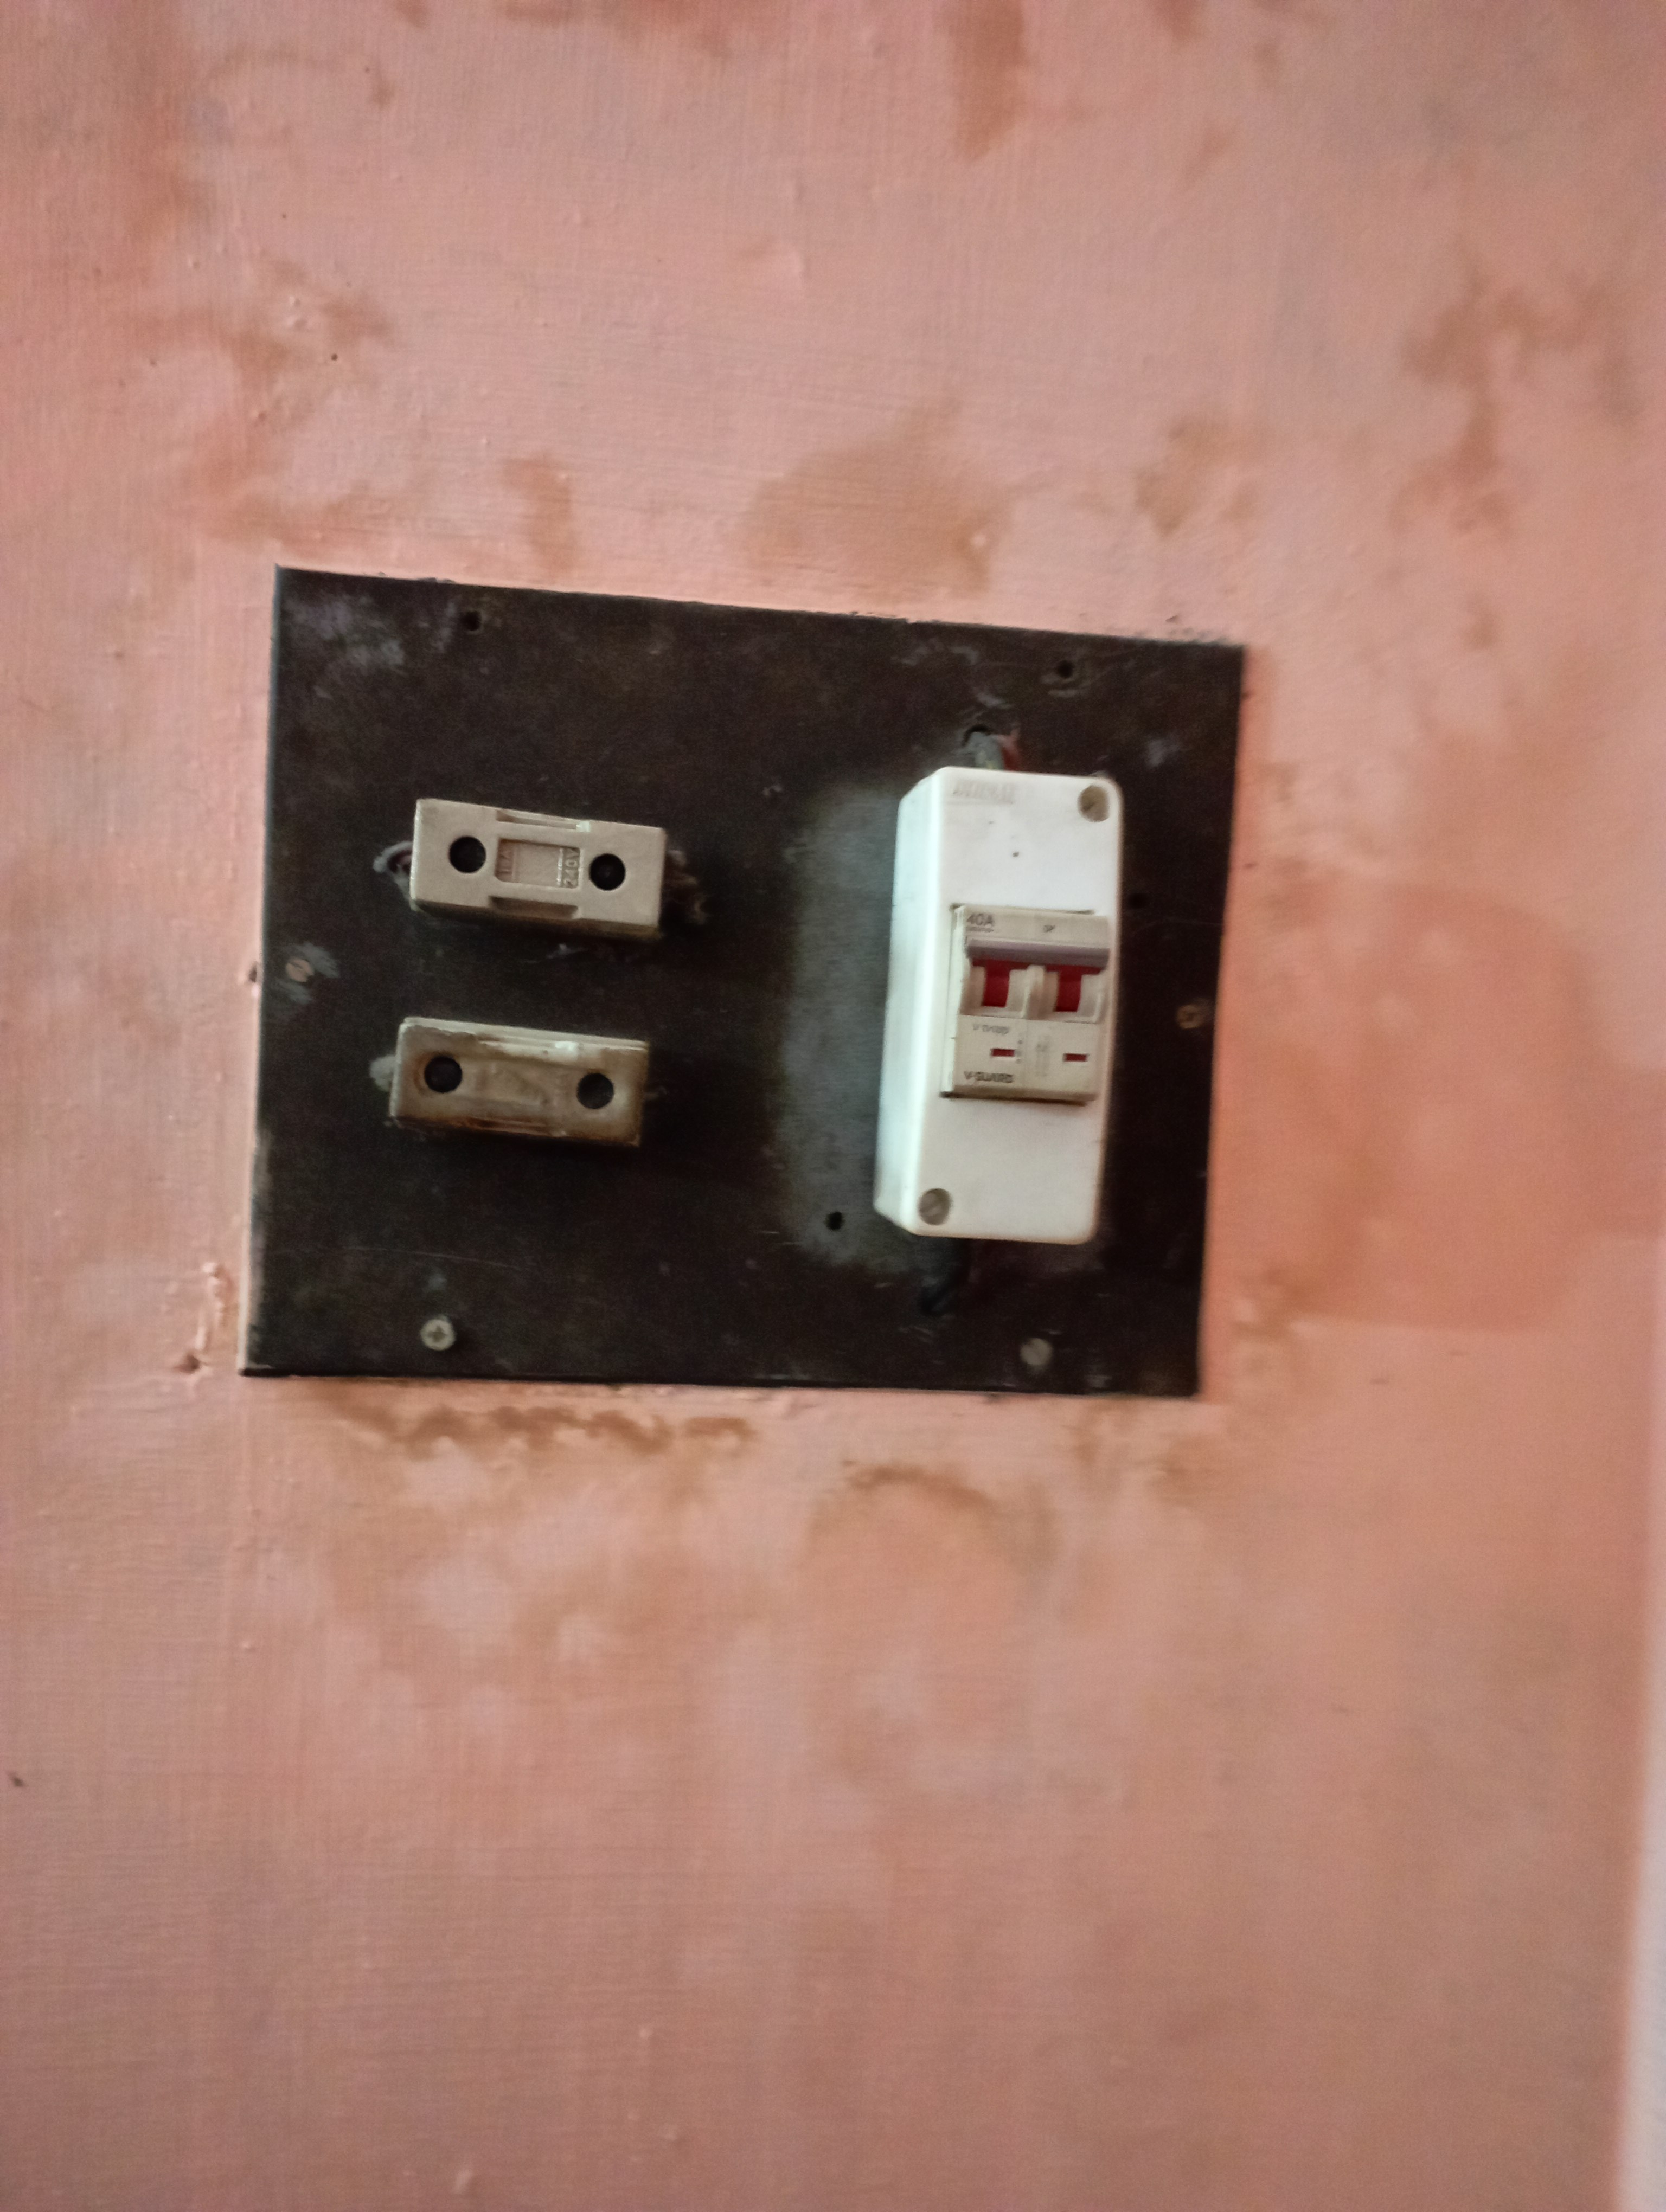ciruit_breaker: (830, 757, 1146, 1256)
fuse: (371, 775, 691, 948), (361, 1000, 674, 1172)
